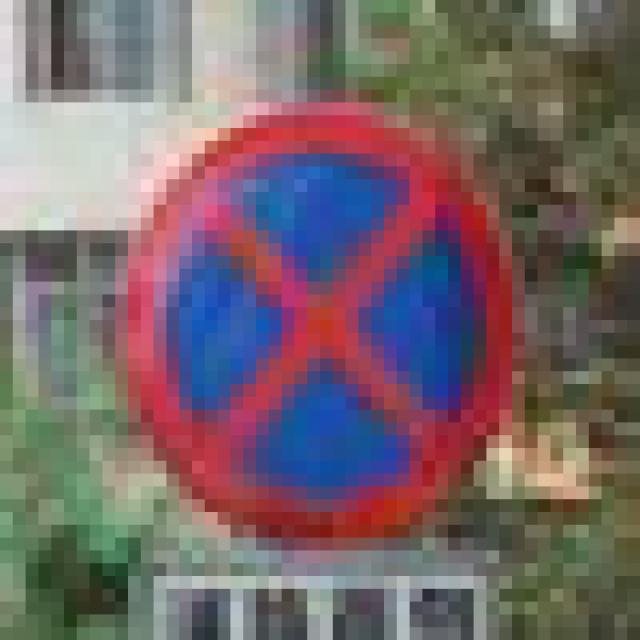no_parking: (102, 102, 512, 538)
